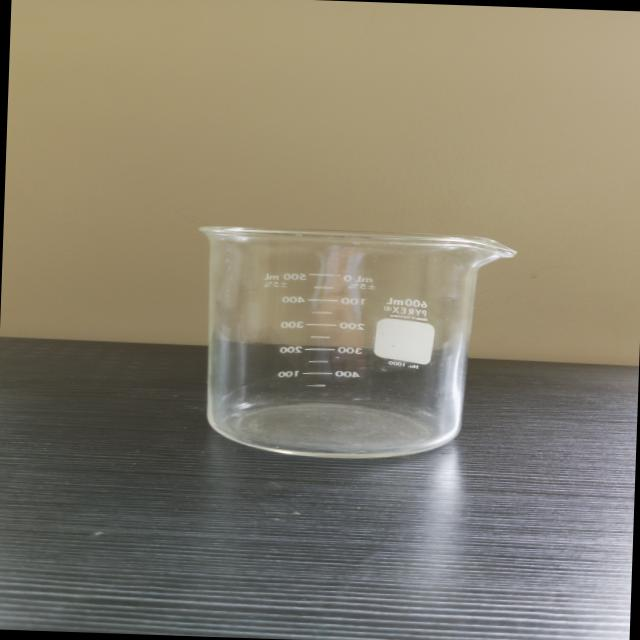beaker: (183, 218, 521, 467)
